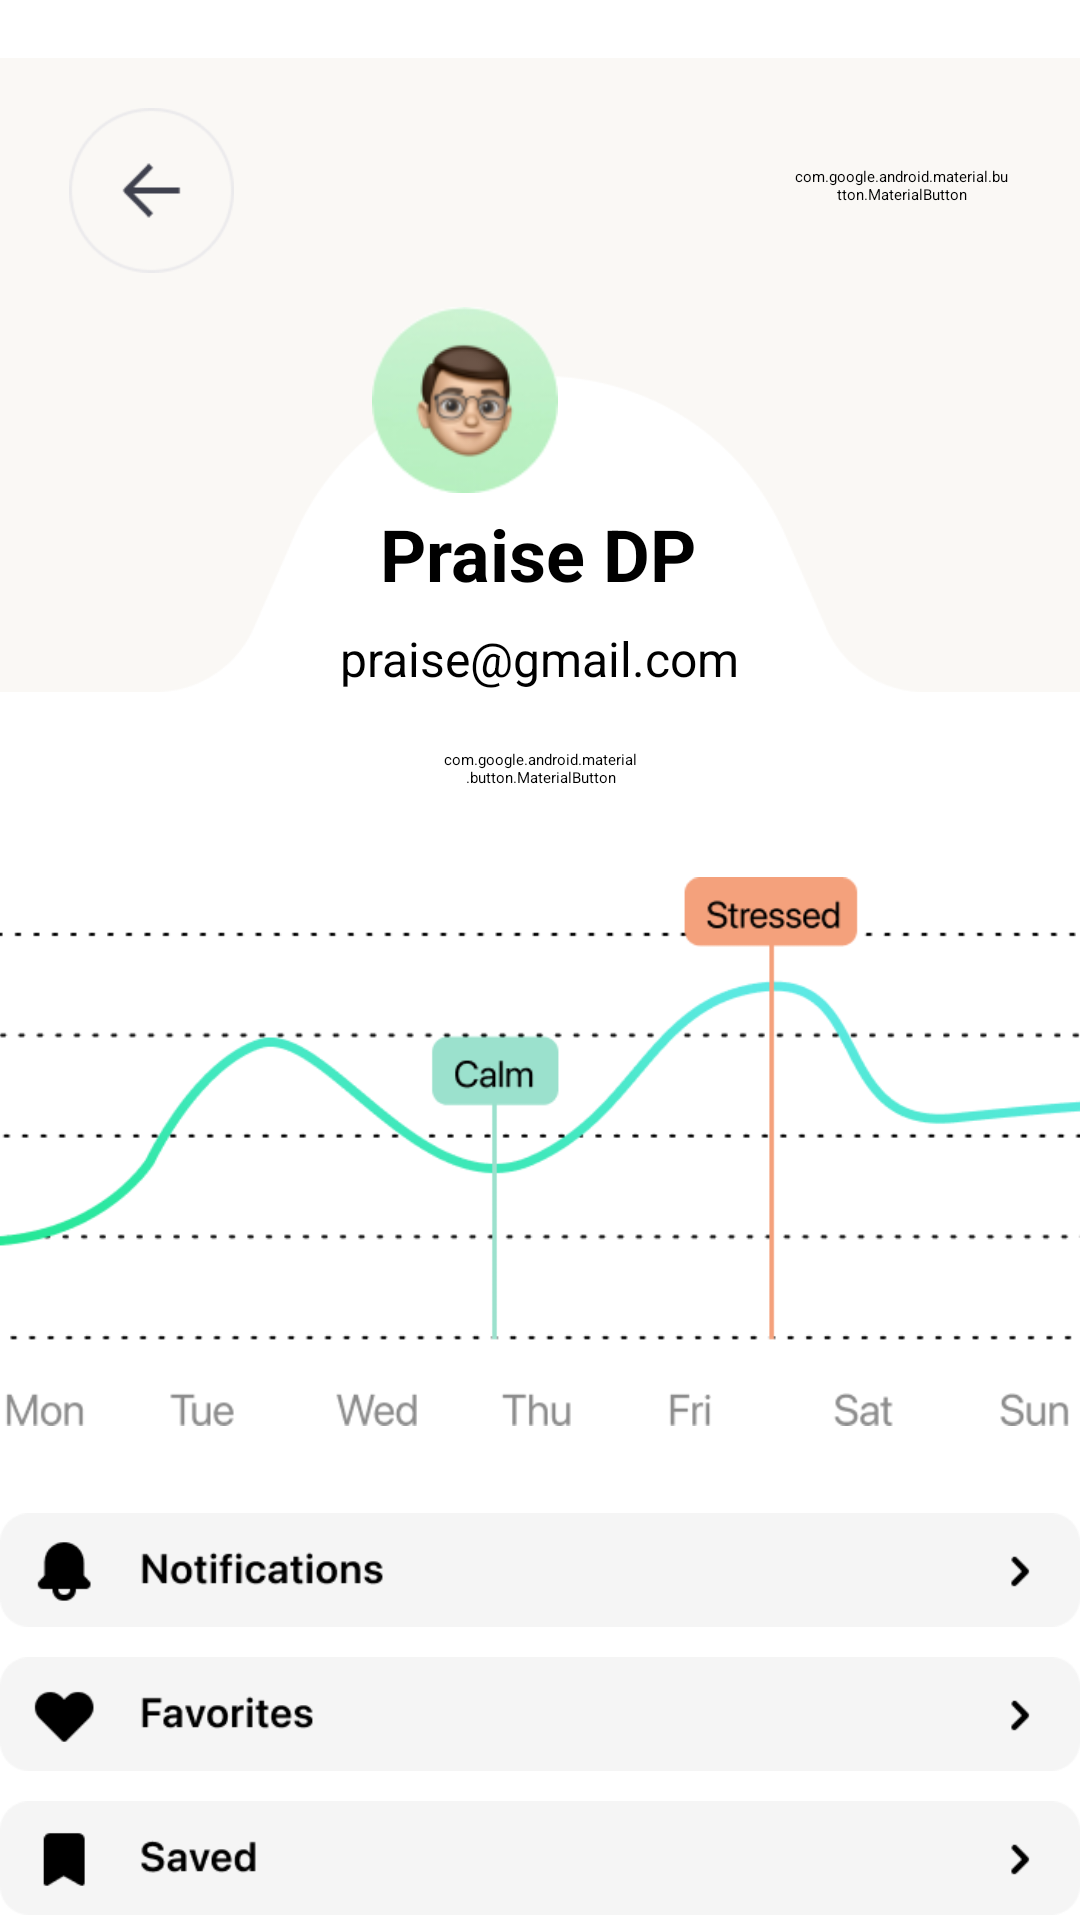

Icons on this 1080px x 1920px Android screen, each with its box as region(x1, y1, x2, y2):
Profile icon: region(372, 308, 558, 493)
